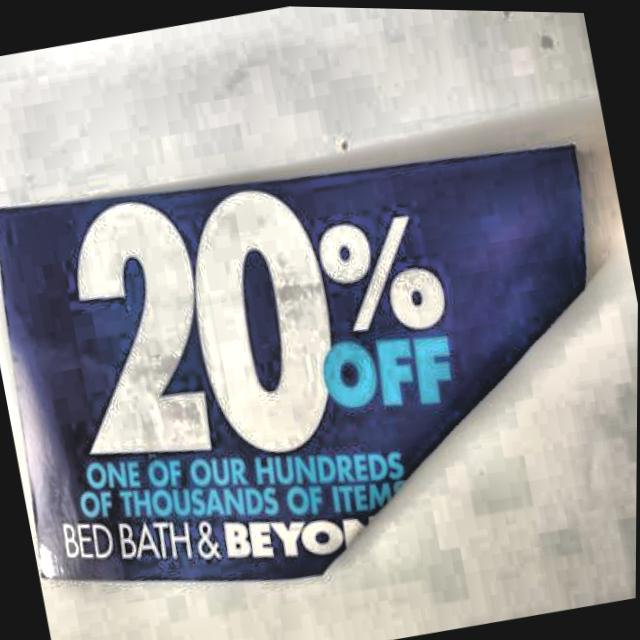Paper: (0, 95, 639, 636)
